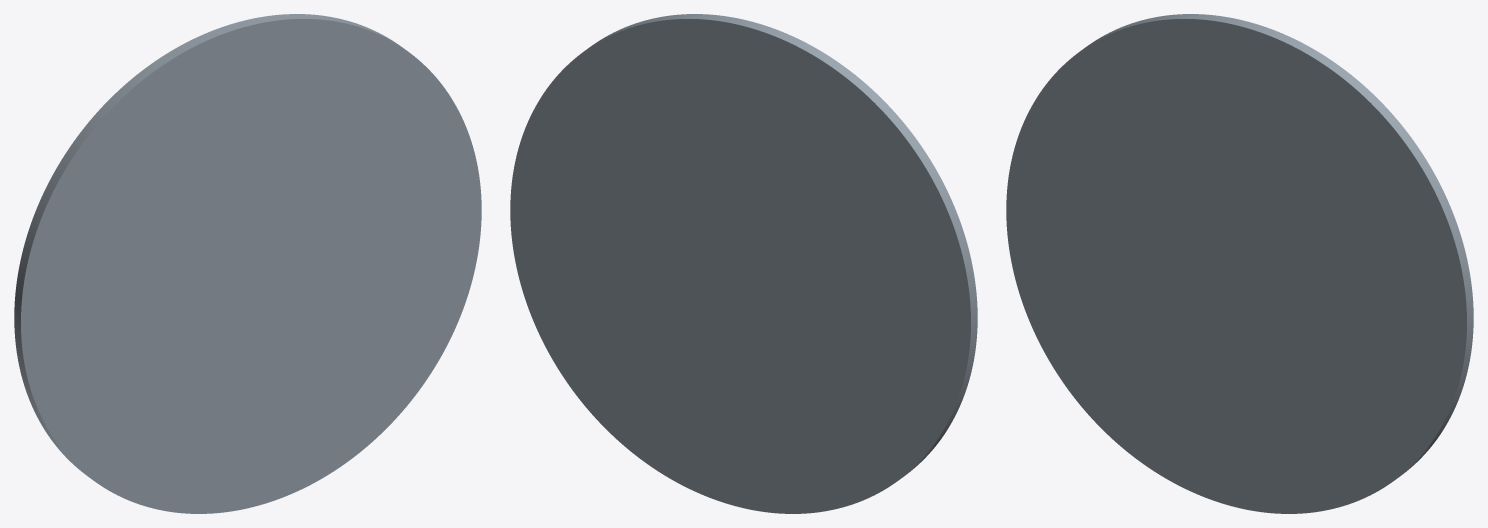
Rendered from base_button.dae.
The picture shows the model from 3 angles, left to right: view 1: azimuth 30°, elevation 25°; view 2: azimuth 150°, elevation 25°; view 3: azimuth 330°, elevation 25°; orthographic projection.
Bounding box in the file's own units: 0.2 × 0.2 × 0.005.
